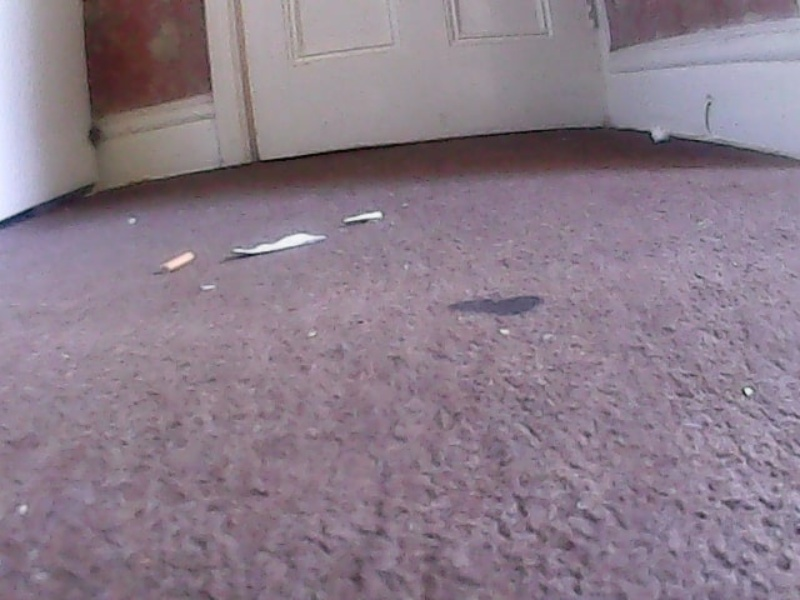cig: (162, 251, 197, 271)
